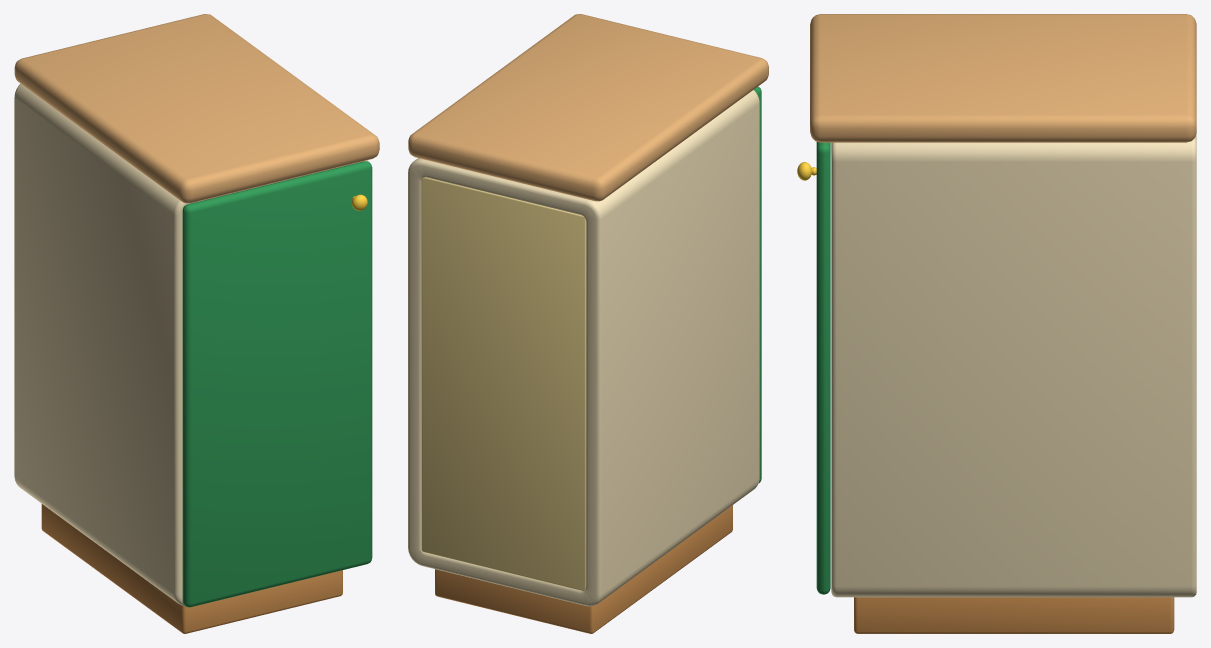
The model's file is armario_cozinha_base_1porta_creme.glb.
3 views of the same model, side by side, from view 1: azimuth 30°, elevation 25°; view 2: azimuth 150°, elevation 25°; view 3: azimuth 270°, elevation 25° (orthographic). The views are drawn at different scales.
Parts seen in each view (by area): view 1: armario_cozinha_base_1porta_creme, porta_1; view 2: armario_cozinha_base_1porta_creme, porta_1; view 3: armario_cozinha_base_1porta_creme, porta_1.
Boxes of the visible parts, bbox=[...] form: armario_cozinha_base_1porta_creme: bbox=[14, 14, 379, 633]; porta_1: bbox=[182, 161, 372, 607]; armario_cozinha_base_1porta_creme: bbox=[408, 14, 768, 633]; porta_1: bbox=[754, 86, 761, 482]; armario_cozinha_base_1porta_creme: bbox=[810, 14, 1196, 633]; porta_1: bbox=[797, 142, 830, 594].
Size of the model in its own units: 0.398 by 0.9 by 0.619.
Materials: 1 (1 with a texture image).
